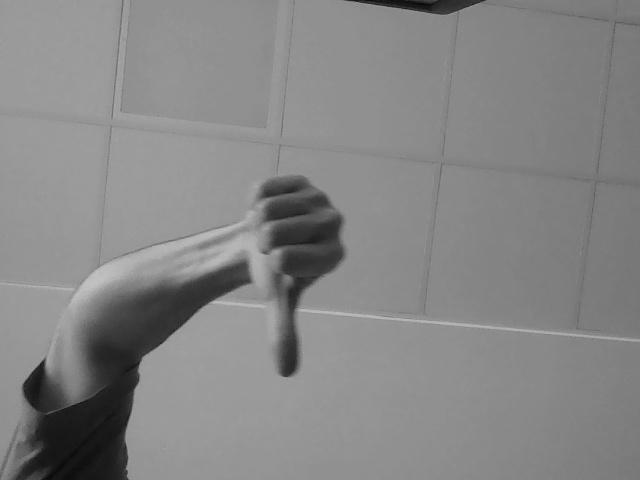bad: (221, 196, 369, 414)
